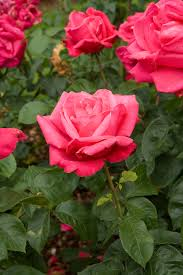rose: (39, 87, 141, 174), (123, 5, 183, 93), (63, 9, 118, 56)
